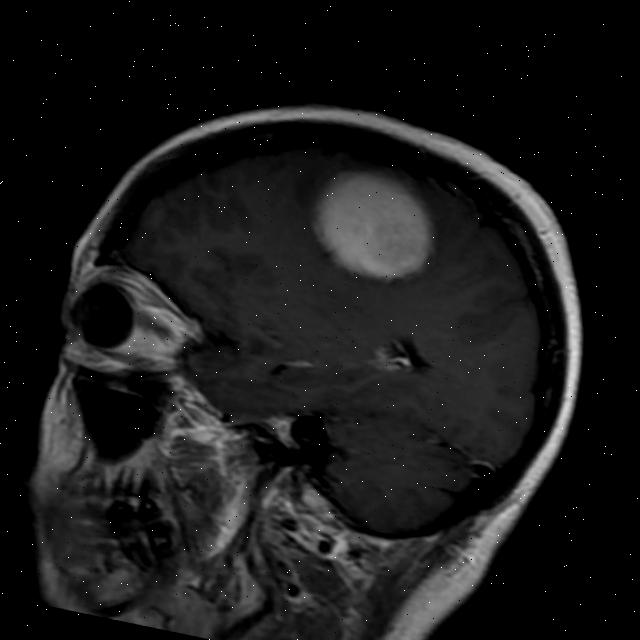Meningioma: (301, 156, 446, 297)
